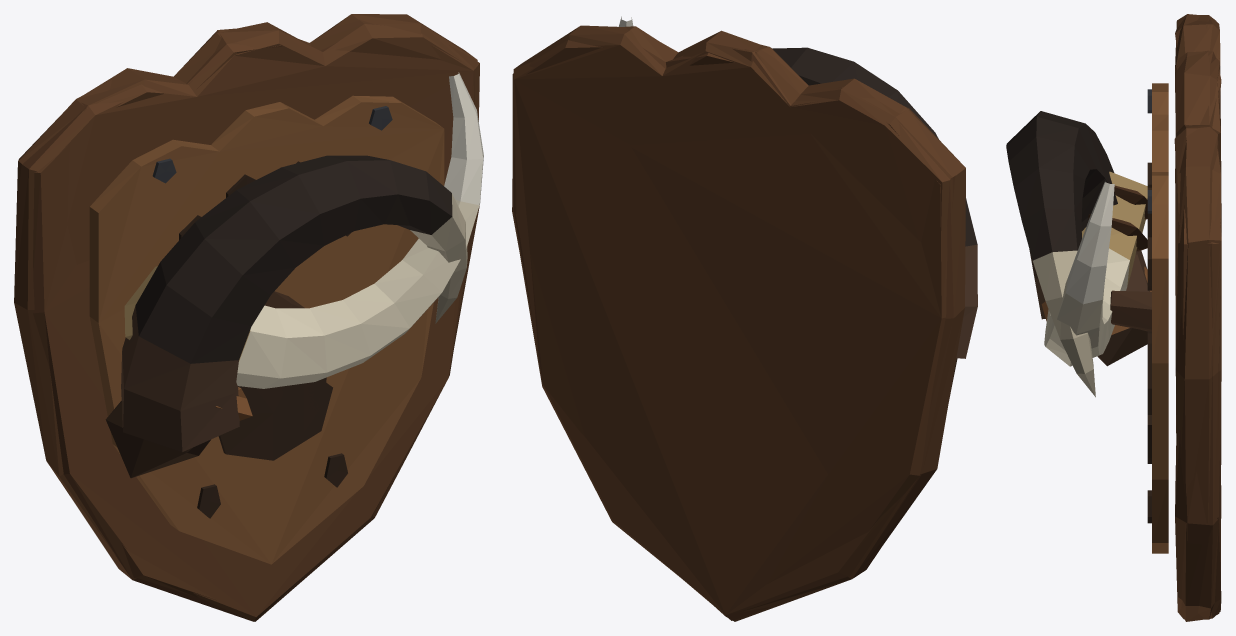
File: trophy-drop.glb
The picture shows the model from 3 angles, left to right: view 1: azimuth 30°, elevation 25°; view 2: azimuth 150°, elevation 25°; view 3: azimuth 270°, elevation 25°; orthographic projection. The views are drawn at different scales.
Parts seen in each view (by area): view 1: trophy-drop; view 2: trophy-drop; view 3: trophy-drop.
Part boxes in pixels (<box>): trophy-drop: <box>14,14,483,621</box>; trophy-drop: <box>512,16,977,621</box>; trophy-drop: <box>1006,14,1221,621</box>.
Bounding box in the file's own units: 0.3556 × 0.4413 × 0.154.
